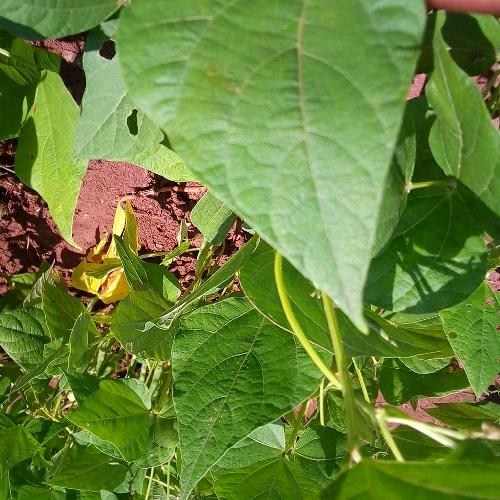mozaik: (192, 47, 242, 104)
sehat: (200, 326, 275, 416)
